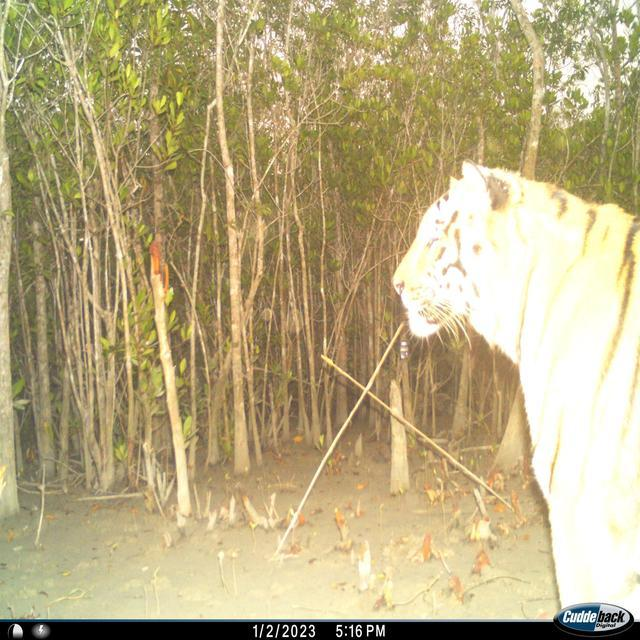tiger: (391, 158, 639, 621)
